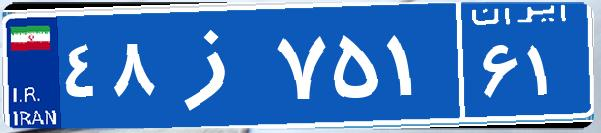1: (385, 28, 445, 110), (525, 38, 570, 115)
4: (57, 26, 110, 107)
5: (330, 28, 385, 110)
6: (475, 38, 525, 113)
7: (273, 28, 330, 110)
8: (110, 28, 158, 105)
ز: (158, 15, 273, 115)
